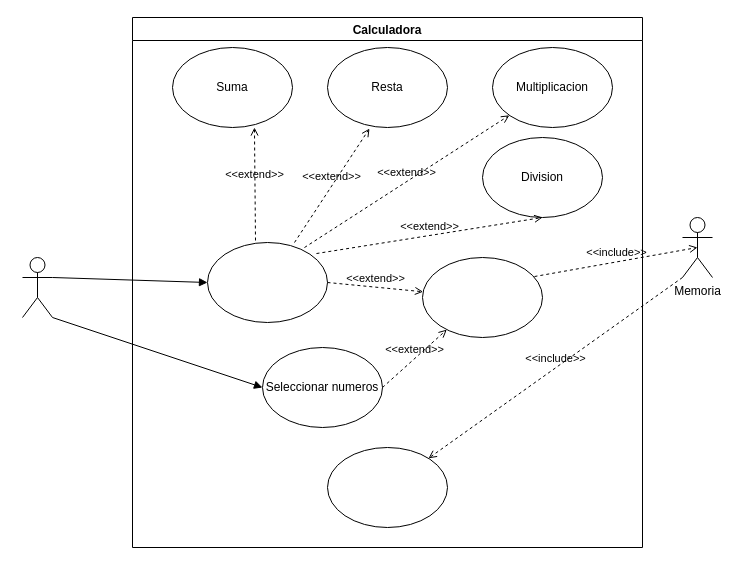
This 738x565 diagram has some shape labels left out. Here are the shapes that lost their labels. From the top down, the centre of each, then its label:
point (37, 287): Usuario
point (267, 282): Seleccionar operacion
point (482, 297): Guardar en la memoria
point (387, 487): Devolver resultado
